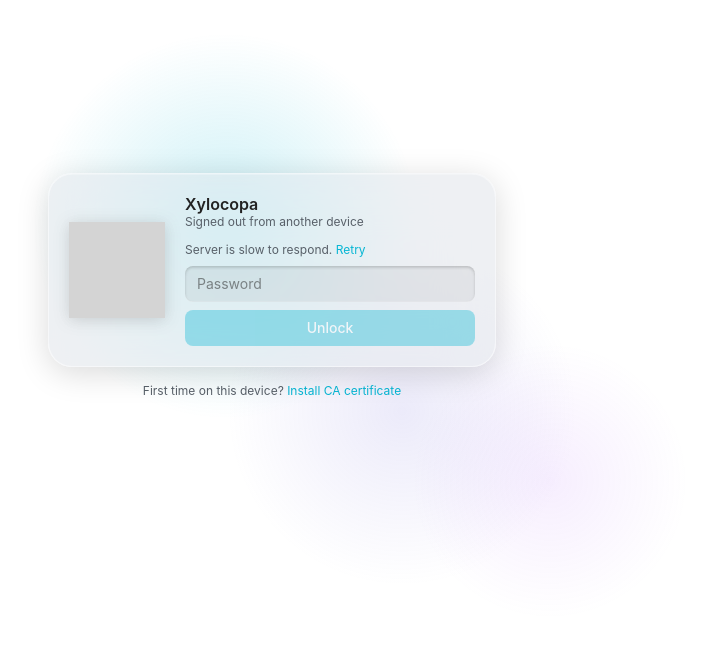
Scenario: LoginPage mount check timeout › shows the form after 8 s with a Retry that aborts the hung check
Check: the text "Server is slow to respond. Retry" is shown, box [185,242,366,258]
Check: the password field with placeholder "Password" is shown, box [185,266,475,302]
Click the button "Retry" at x=351, y=250, box [336,242,366,258]
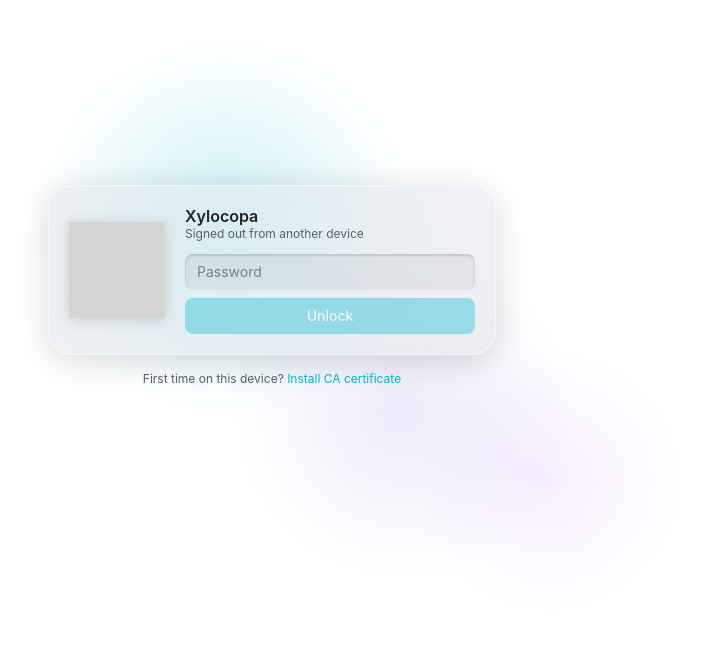
Check: the text "Server is slow to respond" is gone
